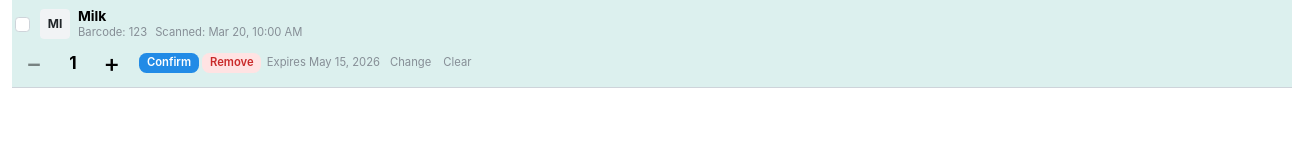
ScanEntryCard expiration date input › shows error and resets to previously confirmed date on failed PATCH
This screenshot has width=1292, height=160.
Click the button with aria-label "Change expiration": (411, 63) top-left (388, 41), bottom-right (433, 85)
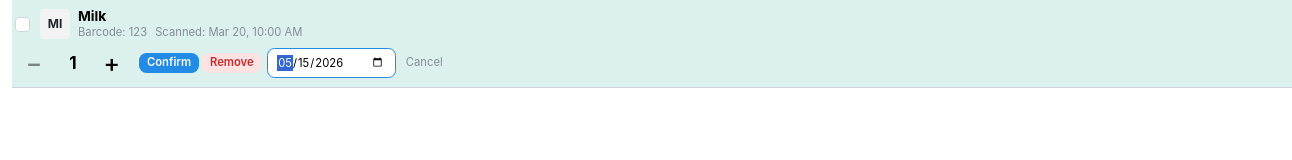
Expected: the date field named "Expiration date" holds "2026-05-15"
In the date field named "Expiration date": (331, 63) top-left (267, 48), bottom-right (396, 78), type "2026-06-01"
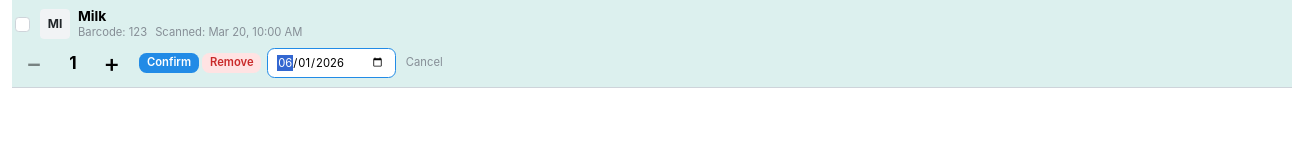
Leave the date field named "Expiration date", box top-left (267, 48), bottom-right (396, 78)
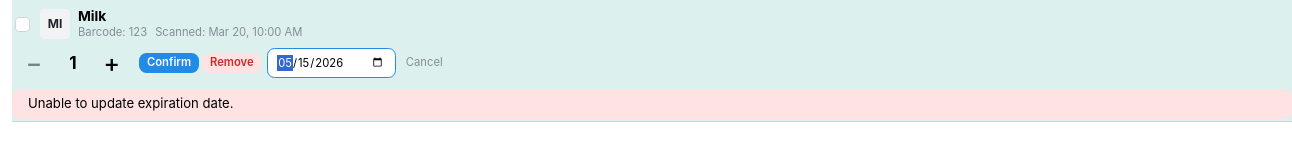
Expected: the message "Unable to update expiration date." is shown, top-left (12, 89), bottom-right (1291, 118)
Expected: the date field named "Expiration date" holds "2026-05-15", top-left (267, 48), bottom-right (396, 78)
